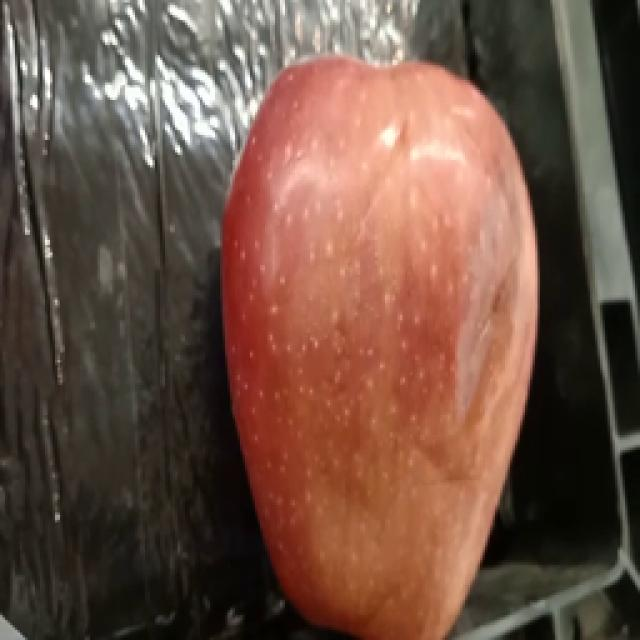Fresh_Apple: (219, 50, 568, 640)
